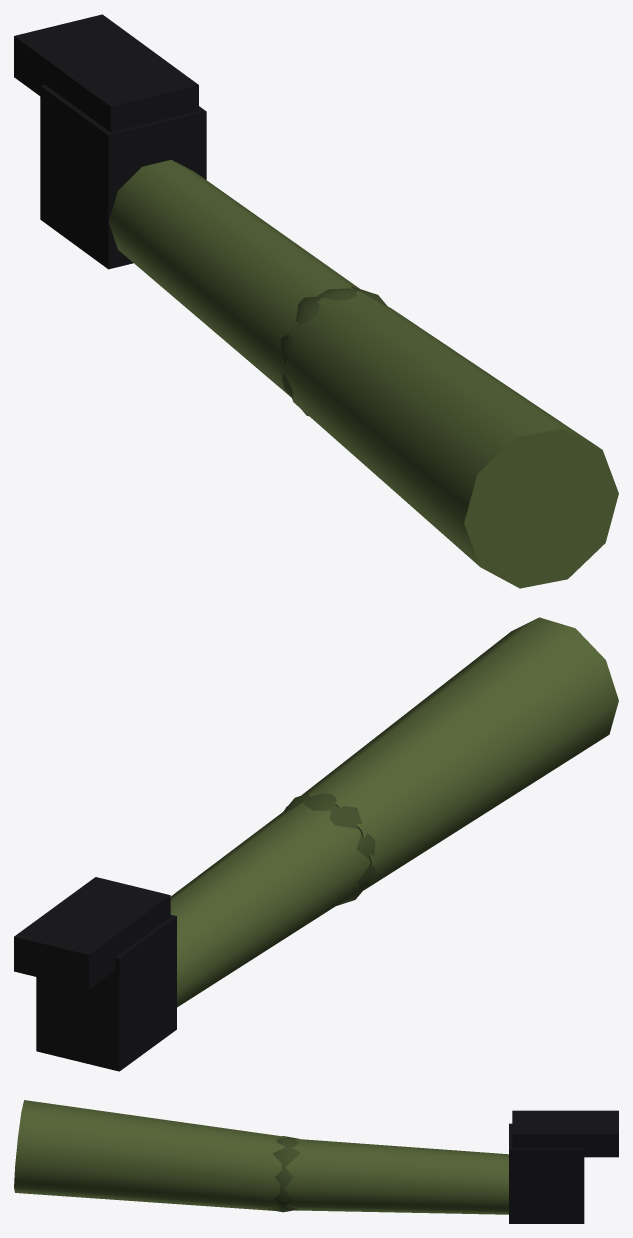
The model's file is commando_leg_r.obj.
3 renders of one model, top to bottom at view 1: azimuth 30°, elevation 25°; view 2: azimuth 150°, elevation 25°; view 3: azimuth 270°, elevation 25°, orthographic. The views are drawn at different scales.
Parts seen in each view (by area): view 1: leg; view 2: leg; view 3: leg.
Part boxes in pixels (x1,y1,x2,y2): leg: [14, 14, 618, 588]; leg: [14, 617, 618, 1071]; leg: [14, 1100, 618, 1223].
Size of the model in its own units: 0.4063 by 0.3589 by 2.12.
